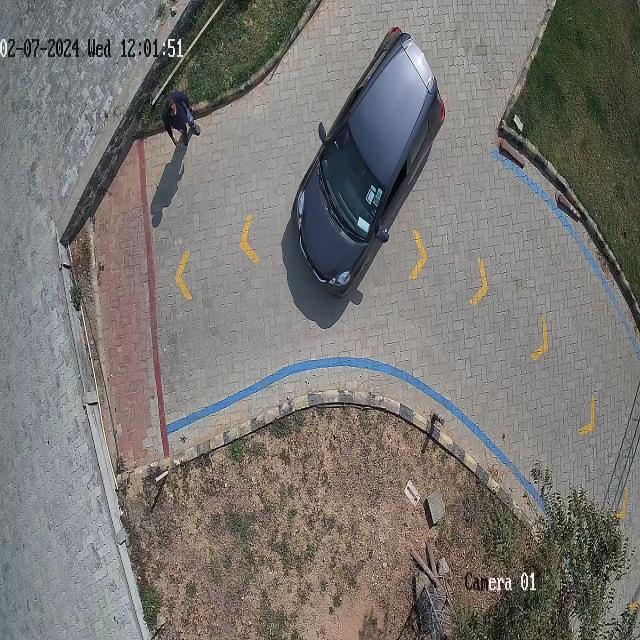car: (293, 22, 447, 296)
